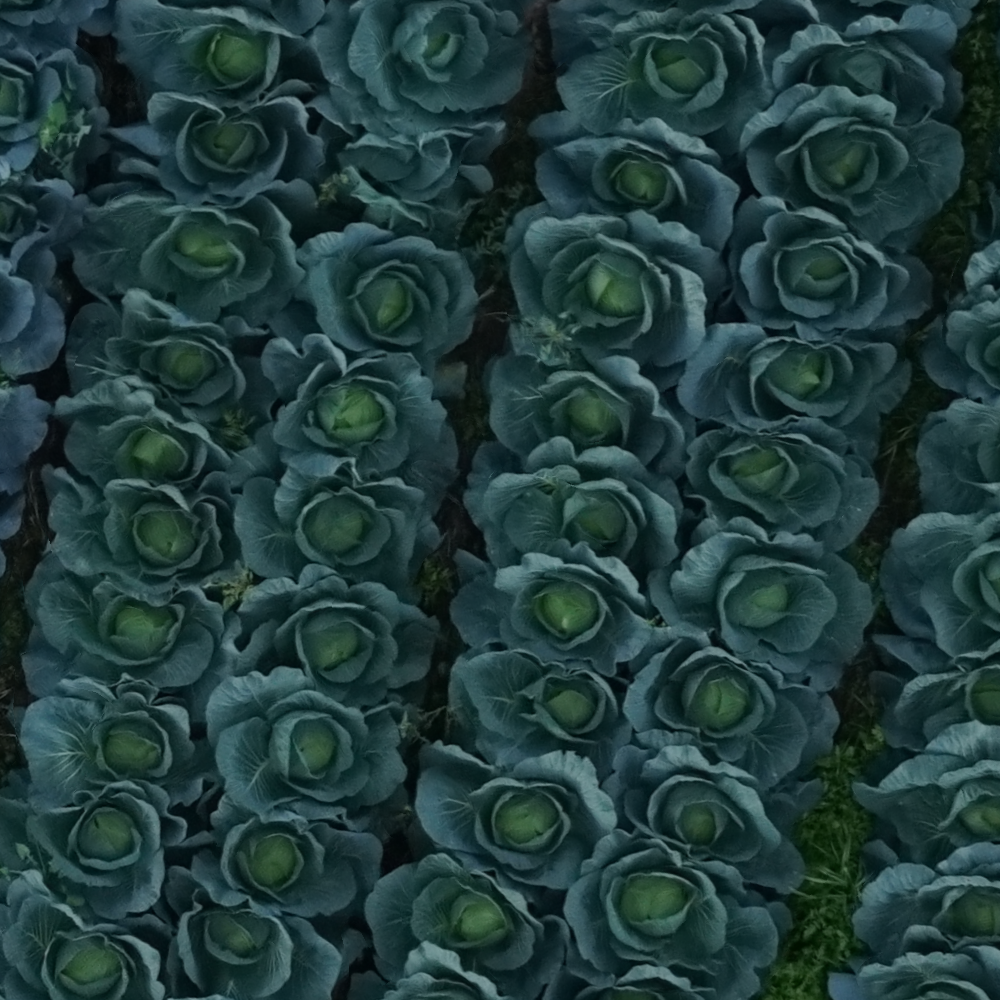Cabbage: (533, 0, 816, 154), (648, 510, 872, 689), (228, 423, 449, 604), (243, 333, 466, 509), (565, 831, 793, 998), (738, 84, 964, 252), (504, 202, 727, 369), (69, 180, 320, 328), (22, 554, 240, 722), (602, 732, 825, 895), (407, 742, 619, 909), (624, 628, 839, 790), (206, 668, 409, 838), (676, 323, 912, 459), (466, 437, 684, 584), (276, 221, 478, 377), (312, 0, 541, 134), (728, 194, 934, 342), (233, 566, 439, 710), (180, 786, 381, 932), (102, 76, 329, 205), (366, 855, 569, 998), (451, 537, 657, 676), (1, 768, 187, 919), (9, 679, 220, 809), (167, 864, 368, 1000), (65, 291, 271, 423), (537, 118, 739, 252), (308, 95, 504, 229), (489, 350, 694, 478), (685, 415, 878, 549), (41, 465, 242, 593), (448, 645, 630, 780), (771, 3, 962, 128), (111, 0, 321, 111), (0, 869, 169, 1000), (852, 722, 1000, 866), (55, 378, 230, 494), (878, 492, 1000, 657), (854, 840, 1000, 964), (869, 634, 1000, 753), (0, 47, 108, 185), (917, 242, 999, 402), (0, 171, 89, 293), (347, 943, 519, 999), (917, 399, 1000, 515), (827, 945, 1000, 1000), (0, 262, 65, 382), (0, 0, 113, 58)
